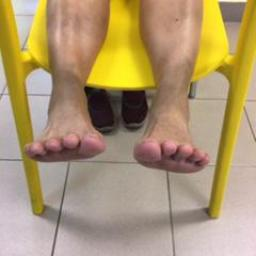Front View -Both Feet-: (16, 50, 226, 179)
